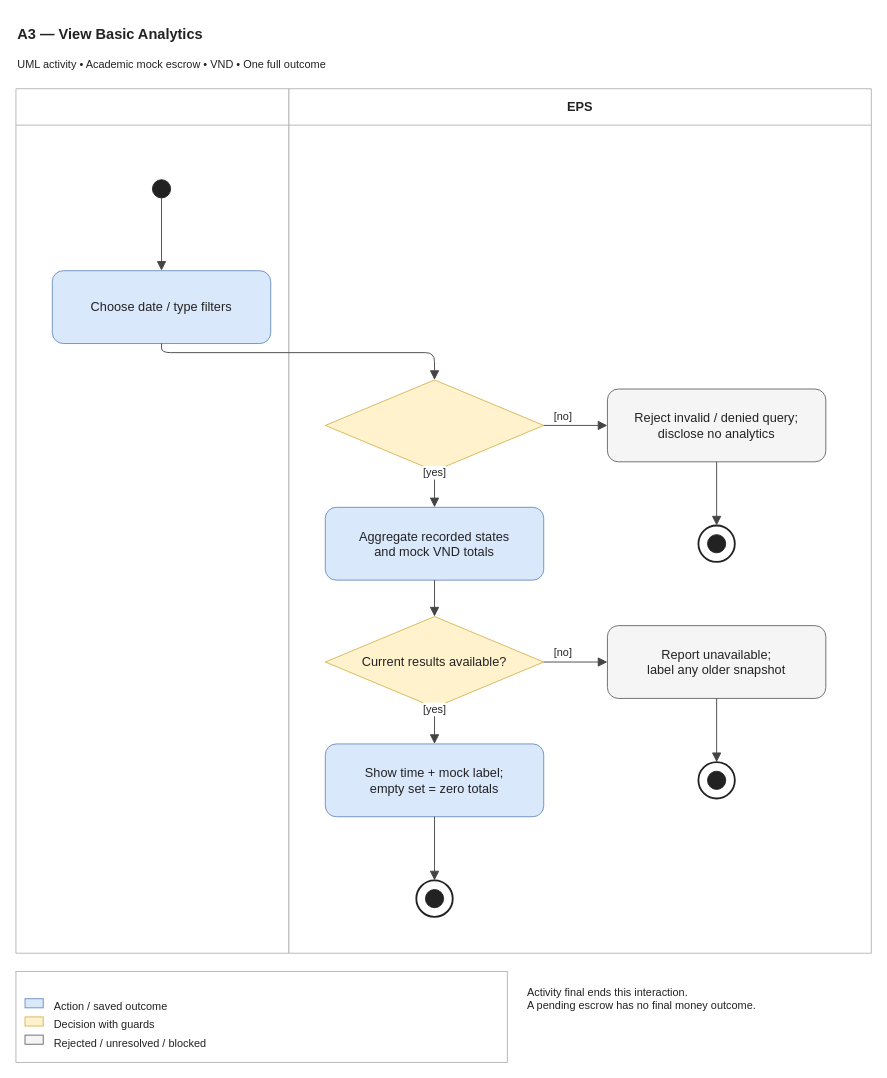
Image size: 887x1078. Some labels were removed from this diagram. The box of each missing label's shape, as (x1, y1, x2, y2) in pixels:
Admin: (15, 88, 289, 953)
Legend: (15, 971, 507, 1062)
Query authorized + valid?: (324, 379, 544, 471)
